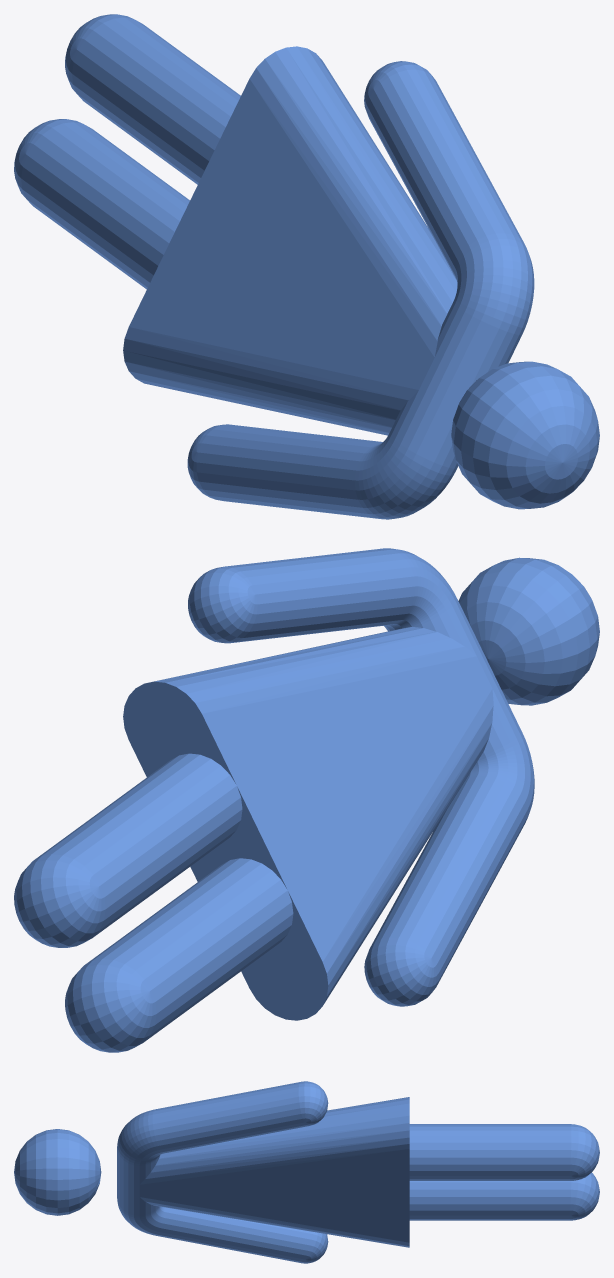
The model's file is Icon Women.glb.
The picture shows the model from 3 angles, top to bottom: view 1: azimuth 30°, elevation 25°; view 2: azimuth 150°, elevation 25°; view 3: azimuth 270°, elevation 25°; orthographic projection. The views are drawn at different scales.
Visible parts, largest first — view 1: world; view 2: world; view 3: world.
Part boxes in pixels (left/top/right/bottom): world: left=14, top=14, right=599, bottom=519; world: left=14, top=548, right=599, bottom=1052; world: left=14, top=1081, right=599, bottom=1263.
Bounding box in the file's own units: 0.289 × 0.4427 × 1.03.
